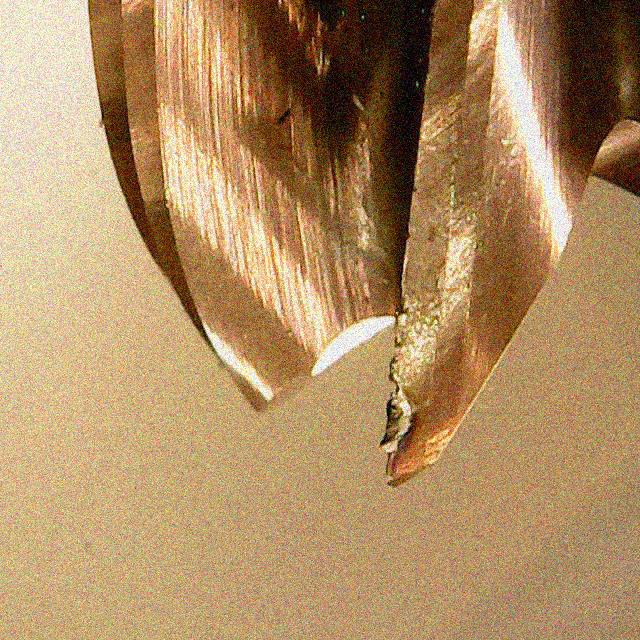Tool-wear-class-1: (375, 257, 476, 486)
